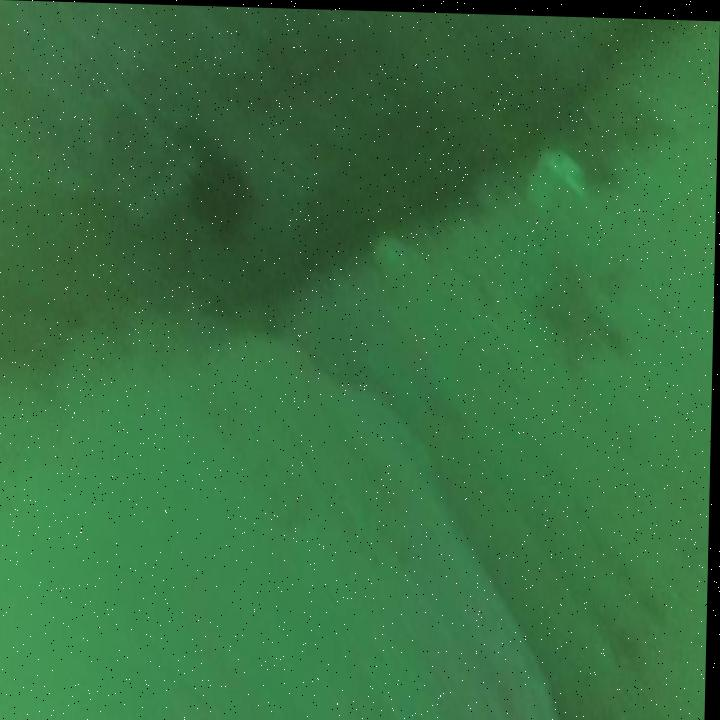echinus: (184, 131, 260, 250)
starfish: (532, 247, 632, 374)
